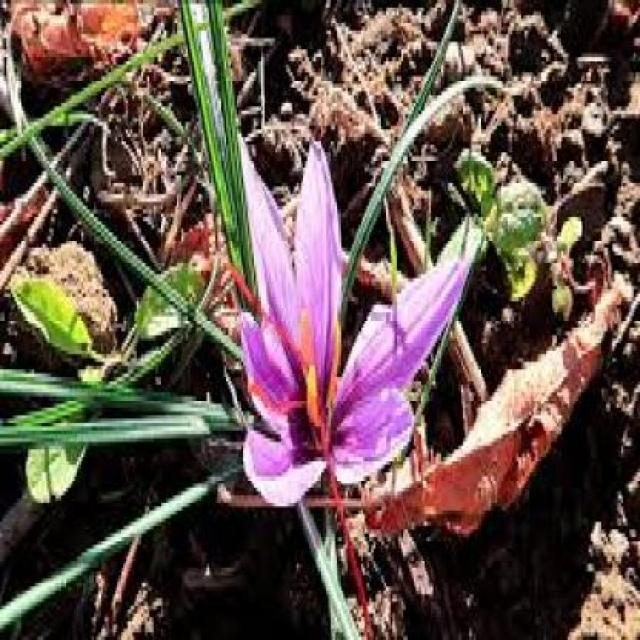Flower: (234, 129, 468, 513)
stigma: (325, 449, 382, 640)
